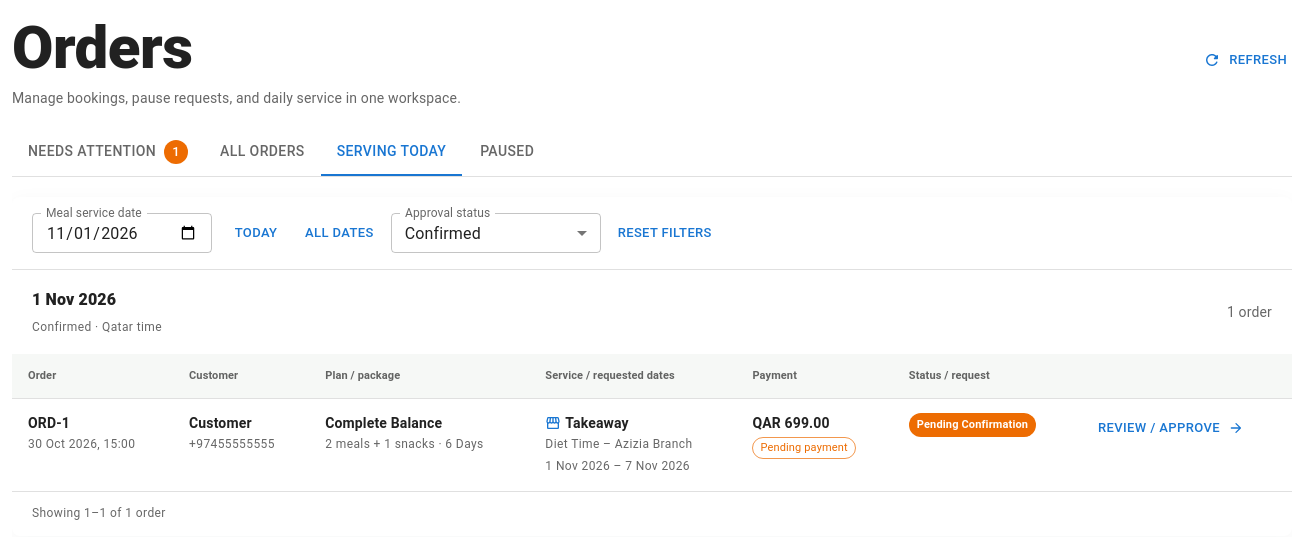
Test: Daily orders by meal service date › resets the daily filters to today and all approval statuses
expect the text "Pending payment" is shown: met, box [753,440,855,456]
Step 1. Click the button "Reset filters" → [665, 233], box [613,218,717,248]
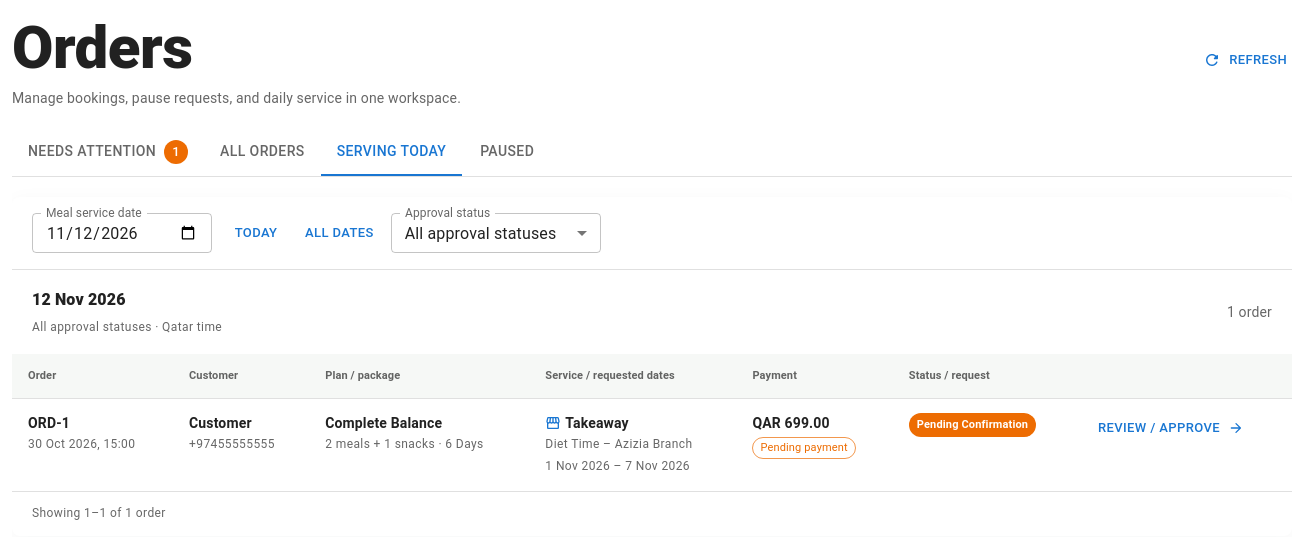
expect the dropdown labelled "approval status" reads "All approval statuses": met, box [405,224,556,242]
